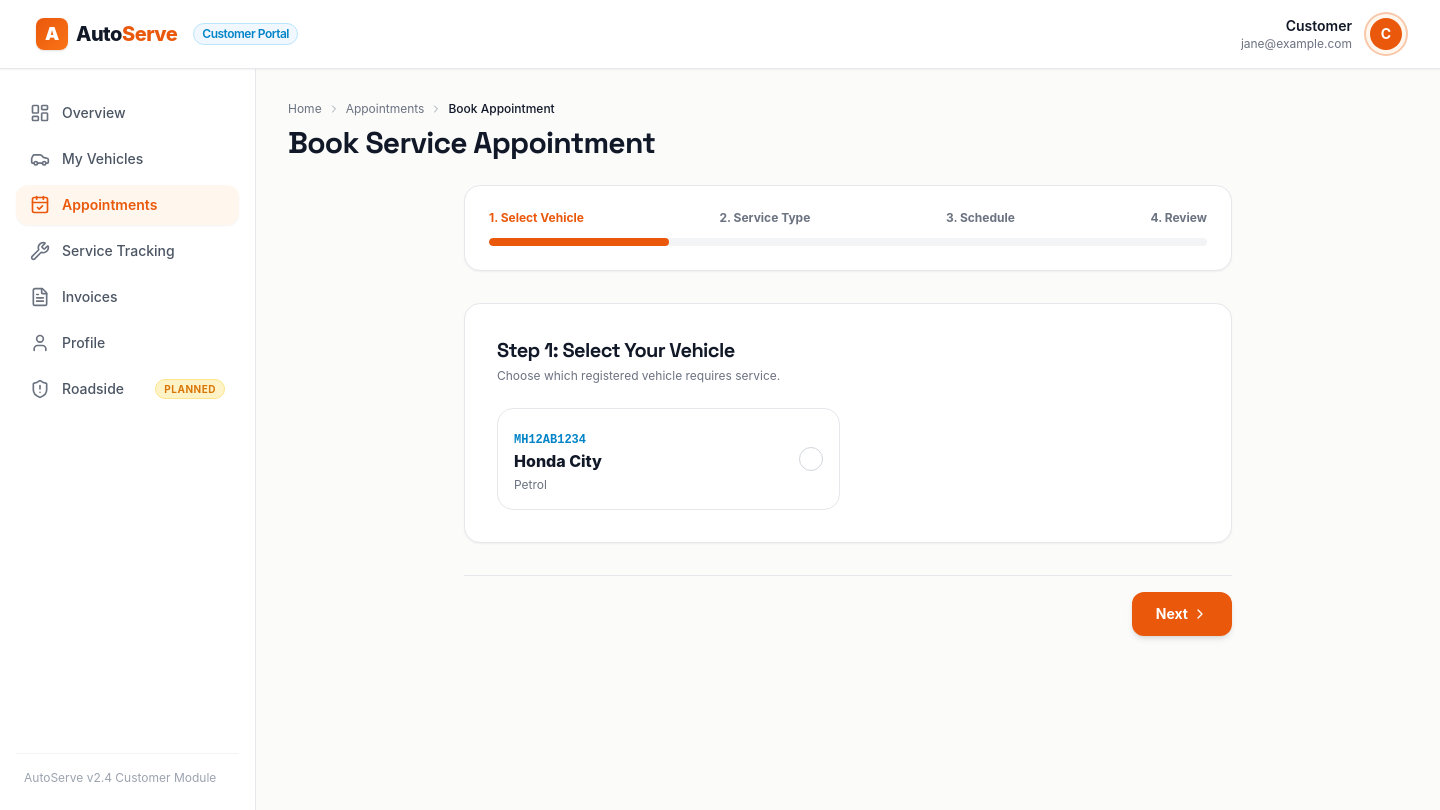
Test case: Appointment Booking & List Tests › 14. navigates through step 1 to step 4 in appointment booking flow
Check: the heading "Step 1: Select Your Vehicle" is shown, box [497,337,735,363]
Check: the text "Honda City" is shown, box [514,449,602,473]
Click the button "Next": coordinates (1182, 614) [1132,592,1232,636]
(page scrolled)
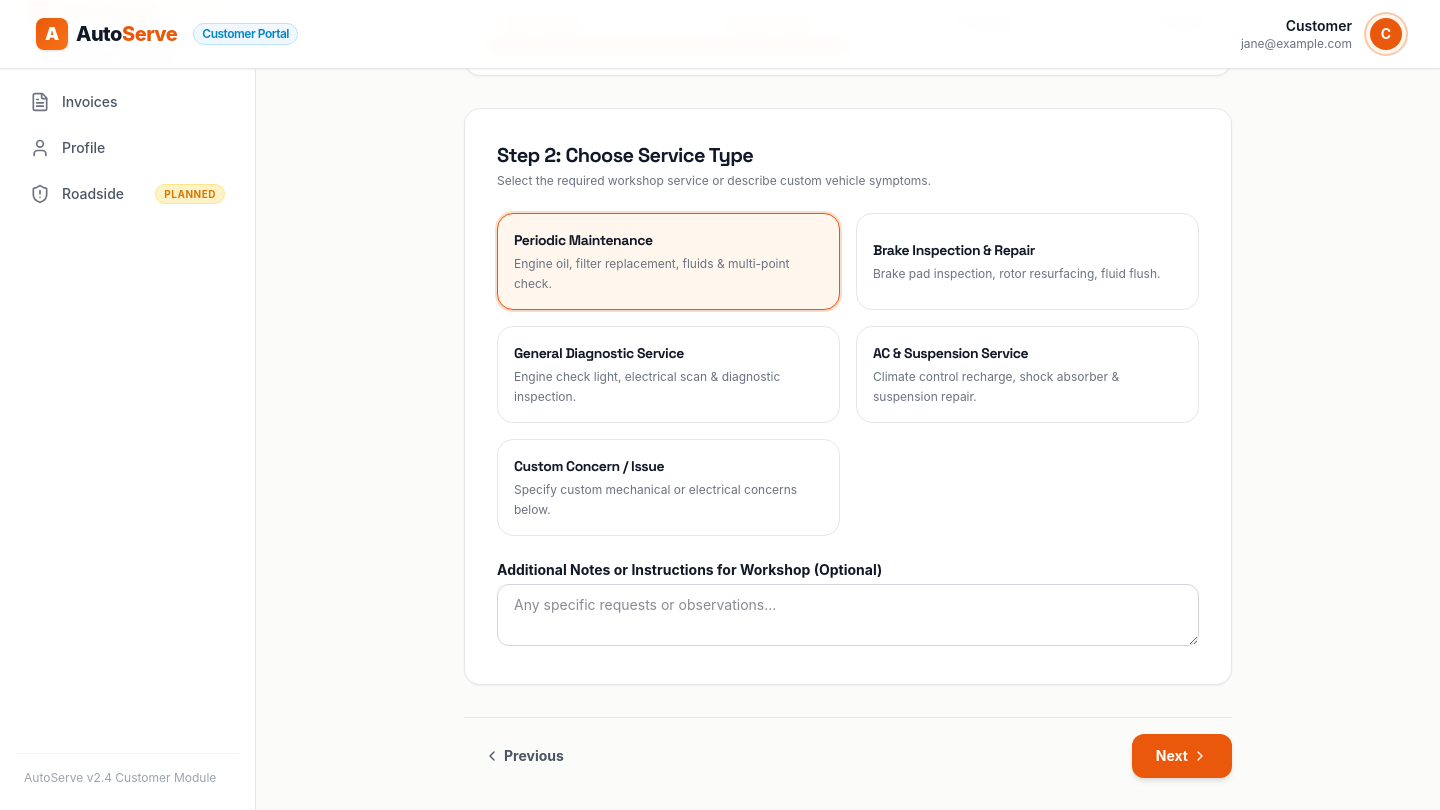
Check: the heading "Step 2: Choose Service Type" is shown, box [497,142,753,168]
Click the button "Next": coordinates (1182, 756) [1132,734,1232,778]
(page scrolled)
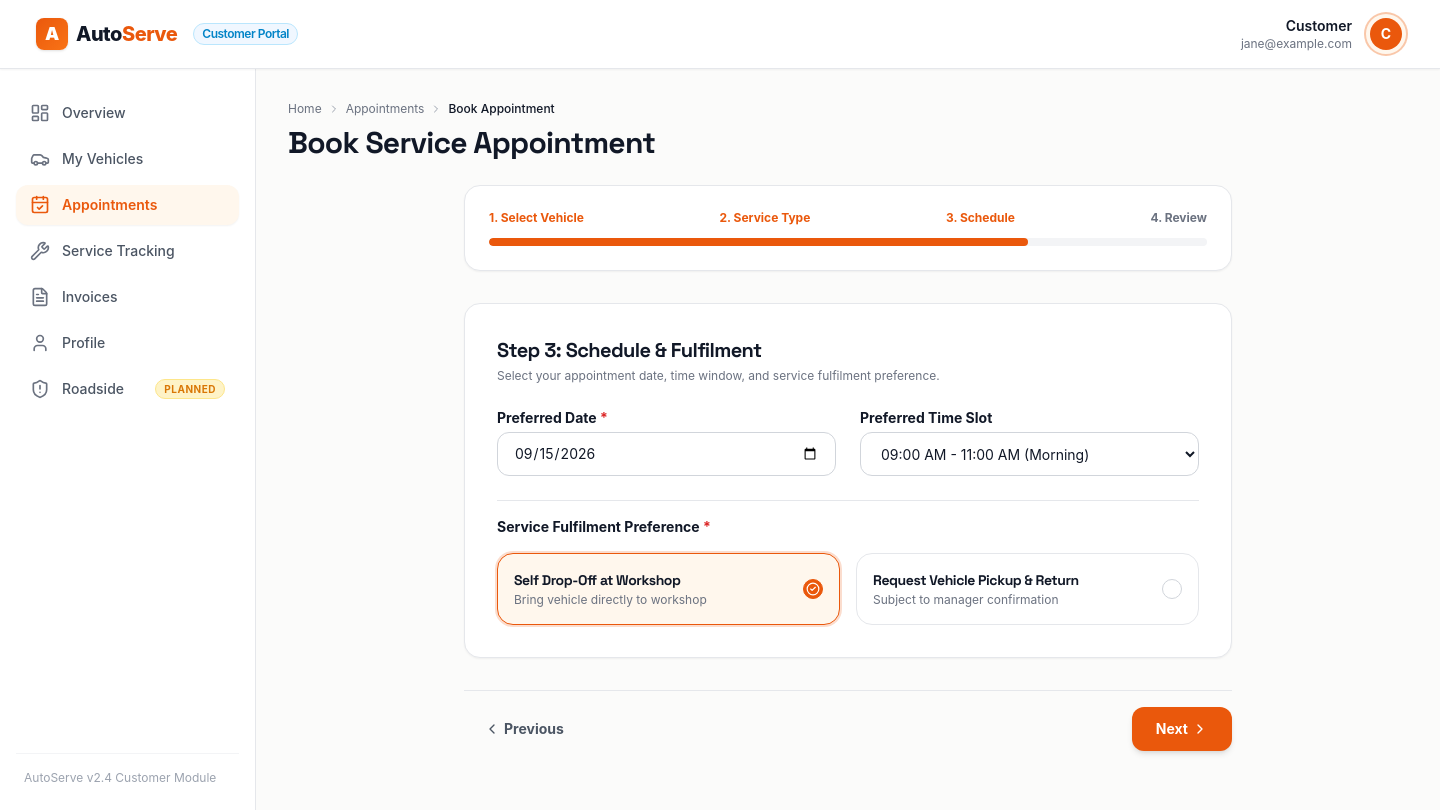
Check: the heading "Step 3: Schedule & Fulfilment" is shown, box [497,337,762,363]
Click the button "Next": coordinates (1182, 729) [1132,707,1232,751]
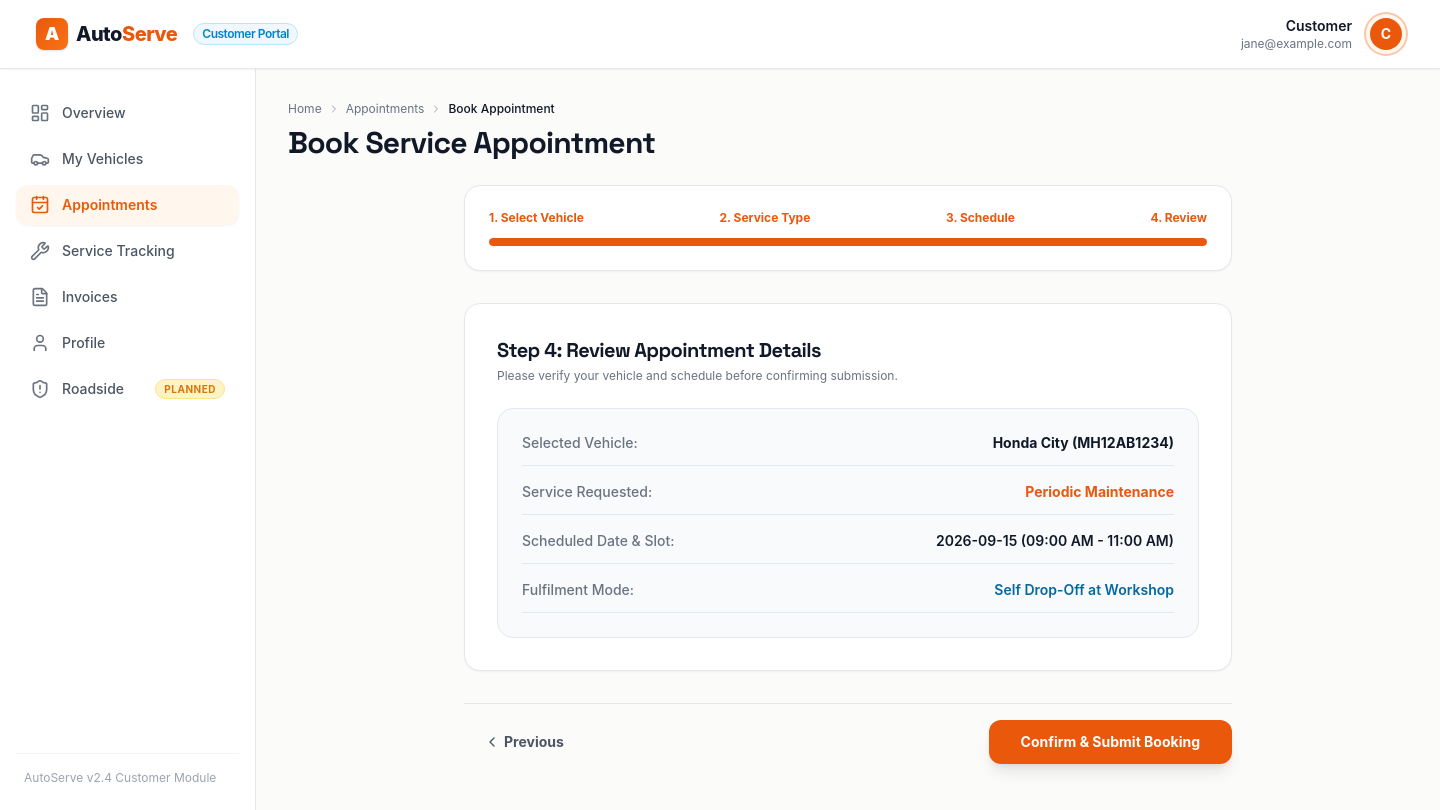
Check: the heading "Step 4: Review Appointment Details" is shown, box [497,337,821,363]
